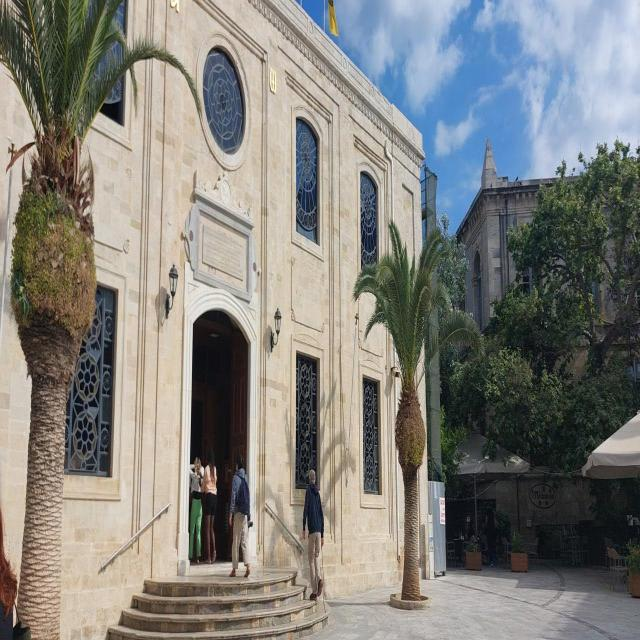Agios Titos: (2, 1, 428, 596)
